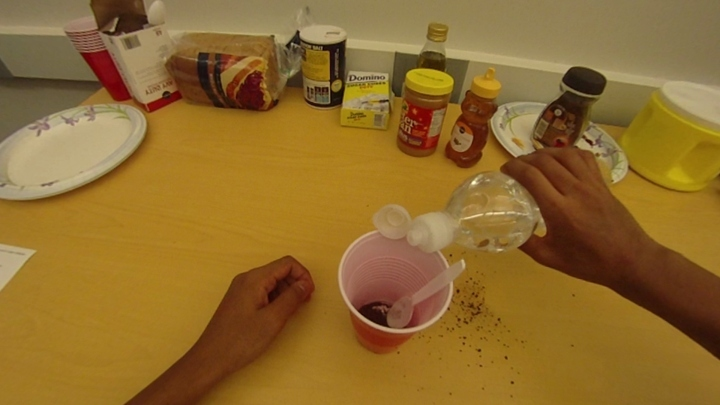hand: (498, 144, 642, 291), (206, 253, 315, 365)
